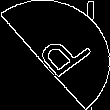P_SW: (22, 25, 88, 85)
